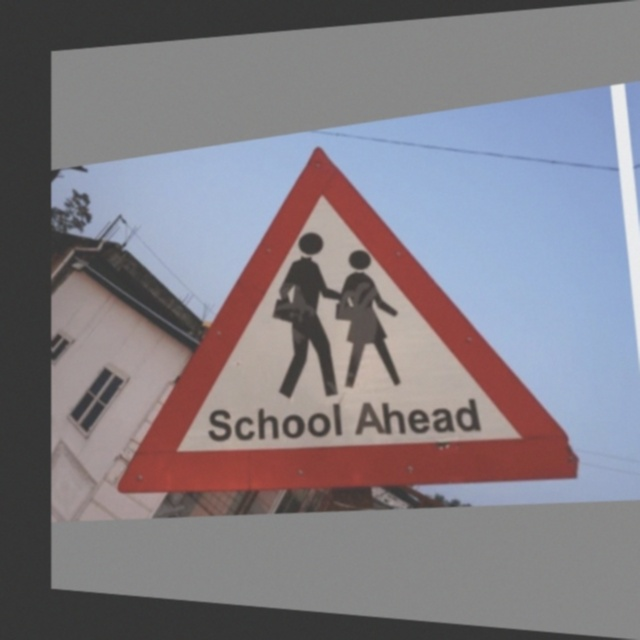School_Ahead: (134, 118, 557, 510)
